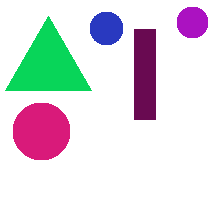circle: (13, 103, 69, 159), (90, 12, 122, 44), (177, 7, 207, 37)
rectangle: (134, 29, 155, 119)
triangle: (5, 16, 91, 90)
